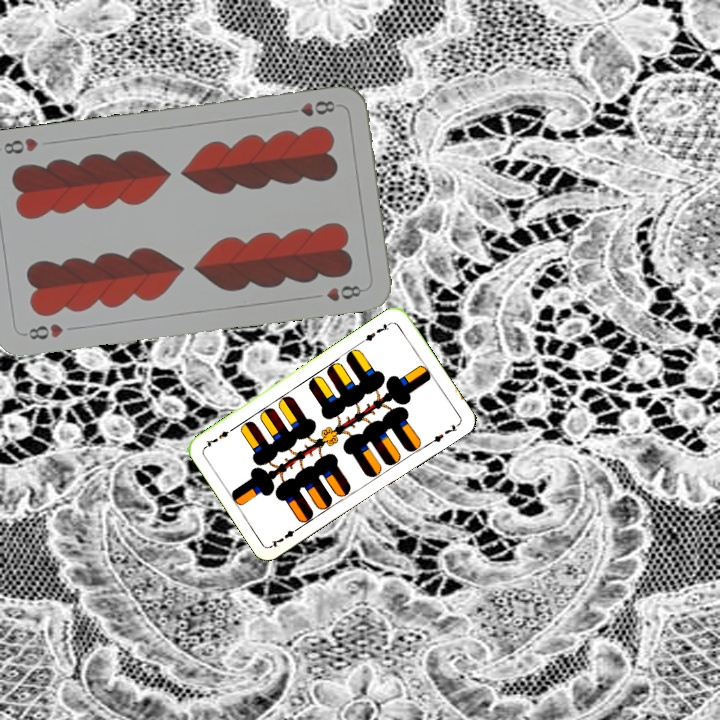E7: (267, 522, 303, 550), (358, 318, 394, 345)
H8: (283, 97, 338, 119), (20, 319, 66, 342)
